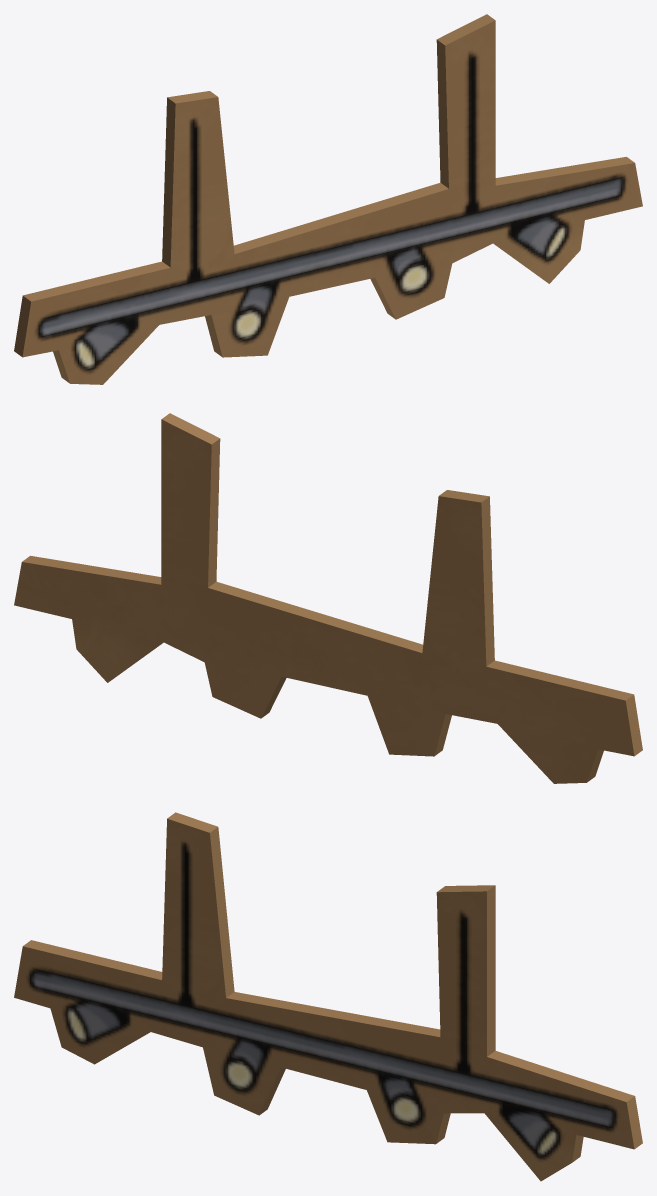
File: SM_Lampes_VF.fbx
The picture shows the model from 3 angles, top to bottom: view 1: azimuth 30°, elevation 25°; view 2: azimuth 150°, elevation 25°; view 3: azimuth 330°, elevation 25°; orthographic projection.
Visible parts, largest first — view 1: Lampes; view 2: Lampes; view 3: Lampes.
Boxes of the visible parts, x1,y1,x2,y2 form: Lampes: (14, 14, 642, 384); Lampes: (14, 413, 642, 783); Lampes: (14, 812, 642, 1181).
Bounding box in the file's own units: 236 × 101 × 5.59.
